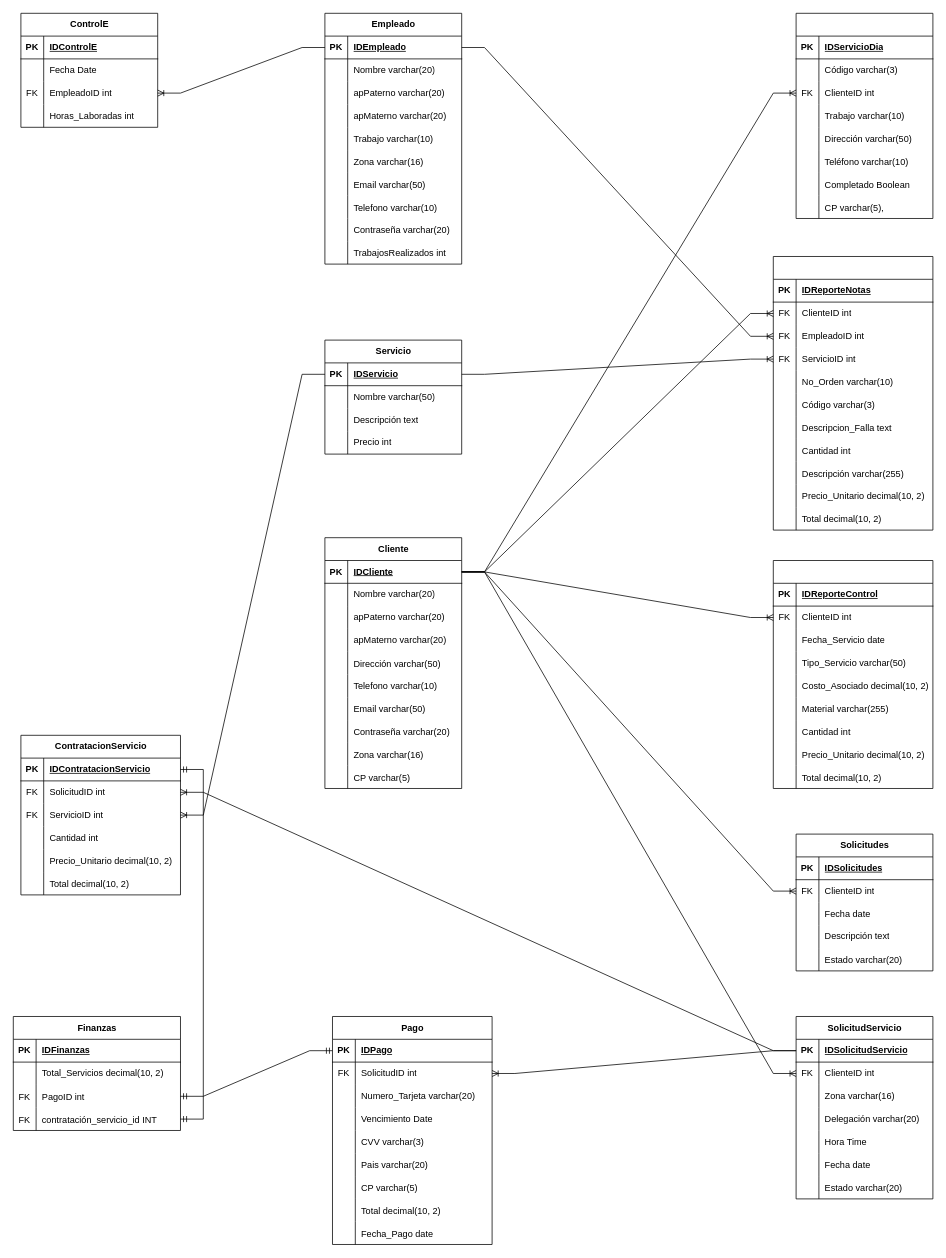
Some shapes in this 946 by 1258 pixel diagram are drawn without their labels. Each missing label, with the box of its shape:
ReporteControlAlmacen: (773, 560, 933, 788)
ReporteNotasDeServicio: (773, 256, 933, 530)
ServiciosDelDia: (795, 13, 933, 218)
